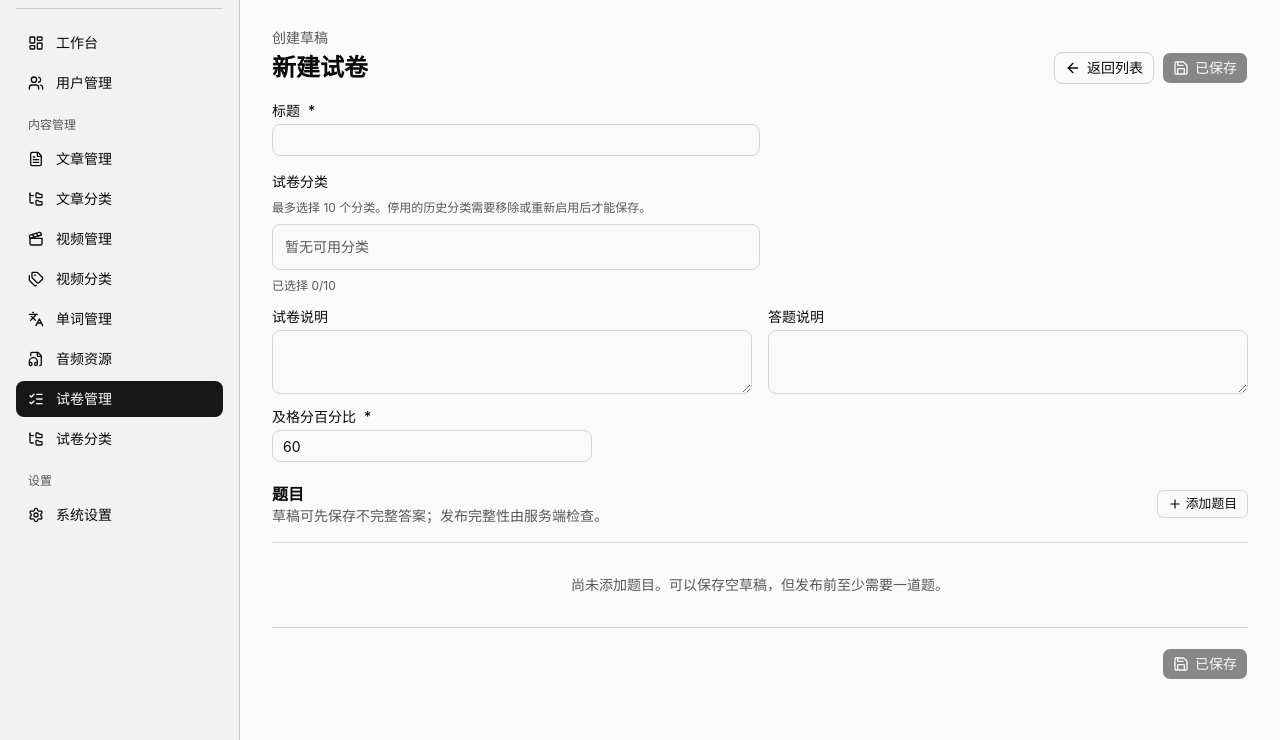
Test: PaperEditor › collapses completed questions and adds the next question in place
Expected: the field labelled "标题 *" is shown, [272, 124, 760, 156]
Click the button "添加题目" at (1202, 504), box [1157, 490, 1248, 518]
(page scrolled)
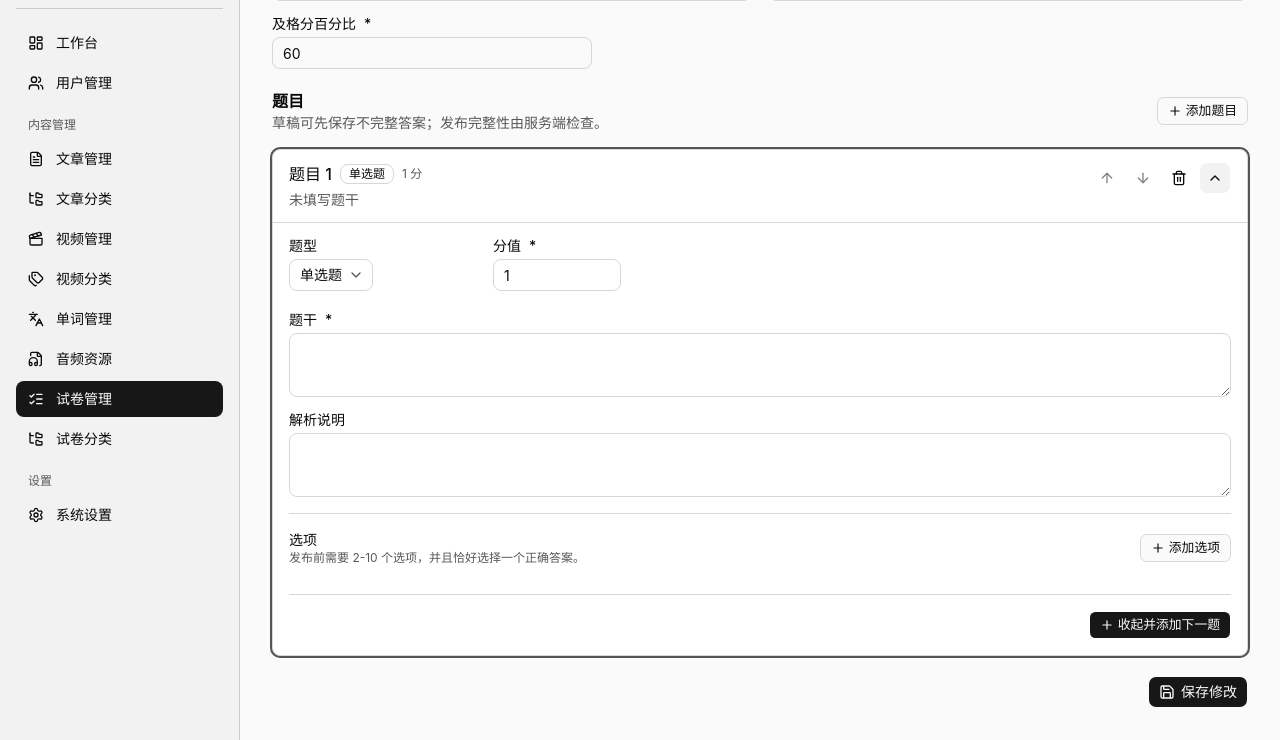
Type "First question" into the text box labelled "题干 *" at (760, 365), box [289, 333, 1231, 397]
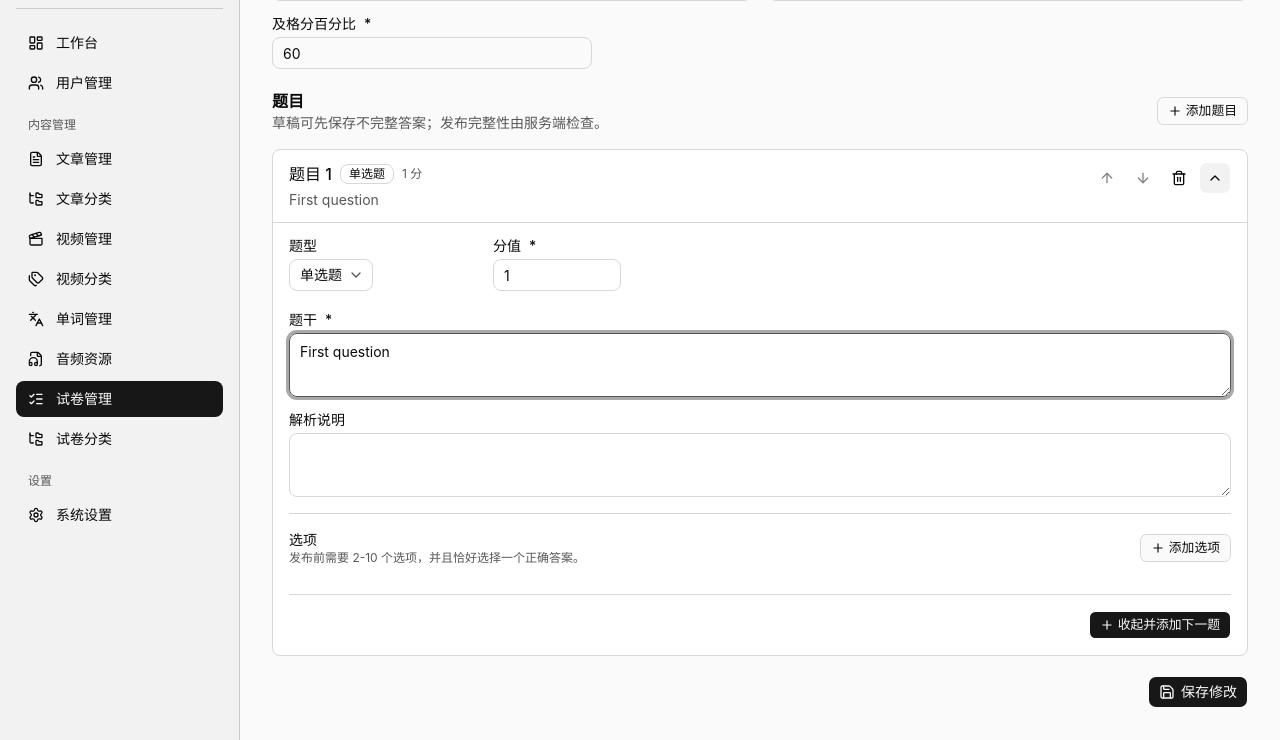
Click the button "收起并添加下一题" at (1160, 625), box [1089, 611, 1231, 639]
(page scrolled)
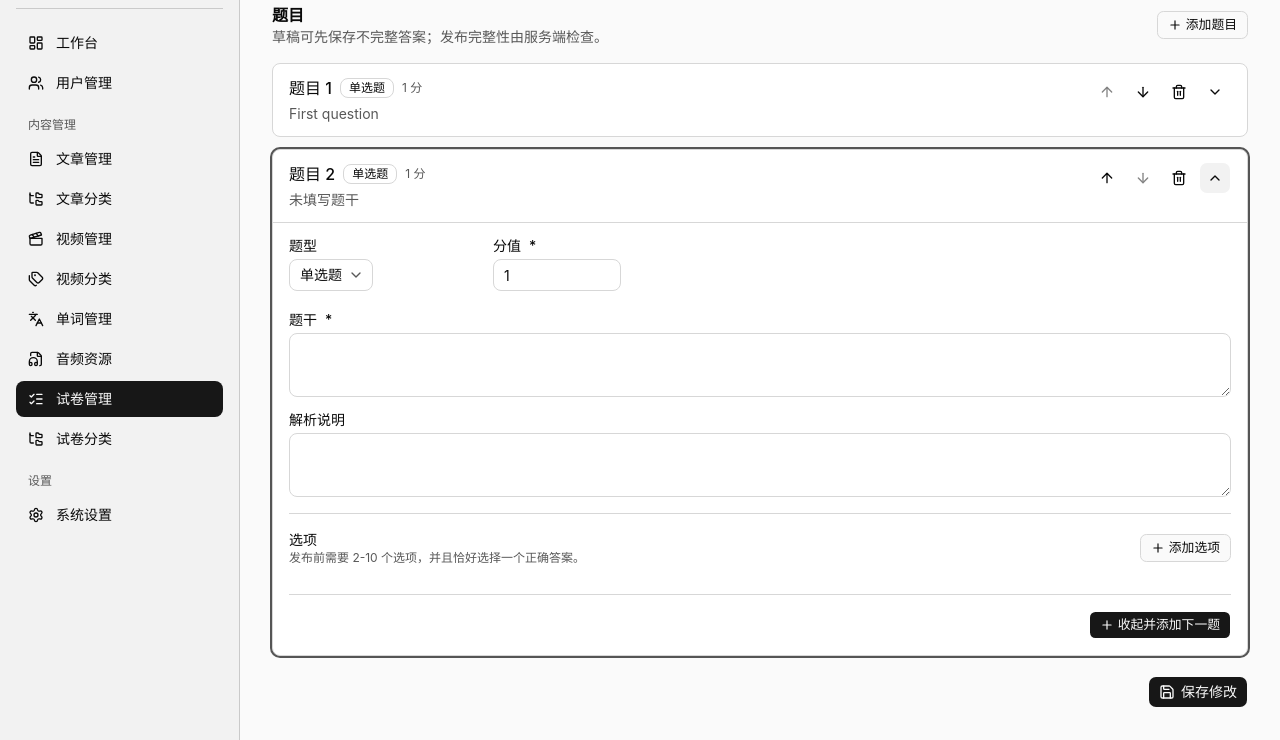
Expected: the text "First question" is shown, [289, 105, 379, 122]
Expected: the number of text boxes labelled "题干 *" is 1, [289, 333, 1231, 397]
Expected: the button named "展开题目 1" is shown
Click the button named "展开题目 1" at (1215, 92), box [1199, 76, 1231, 108]
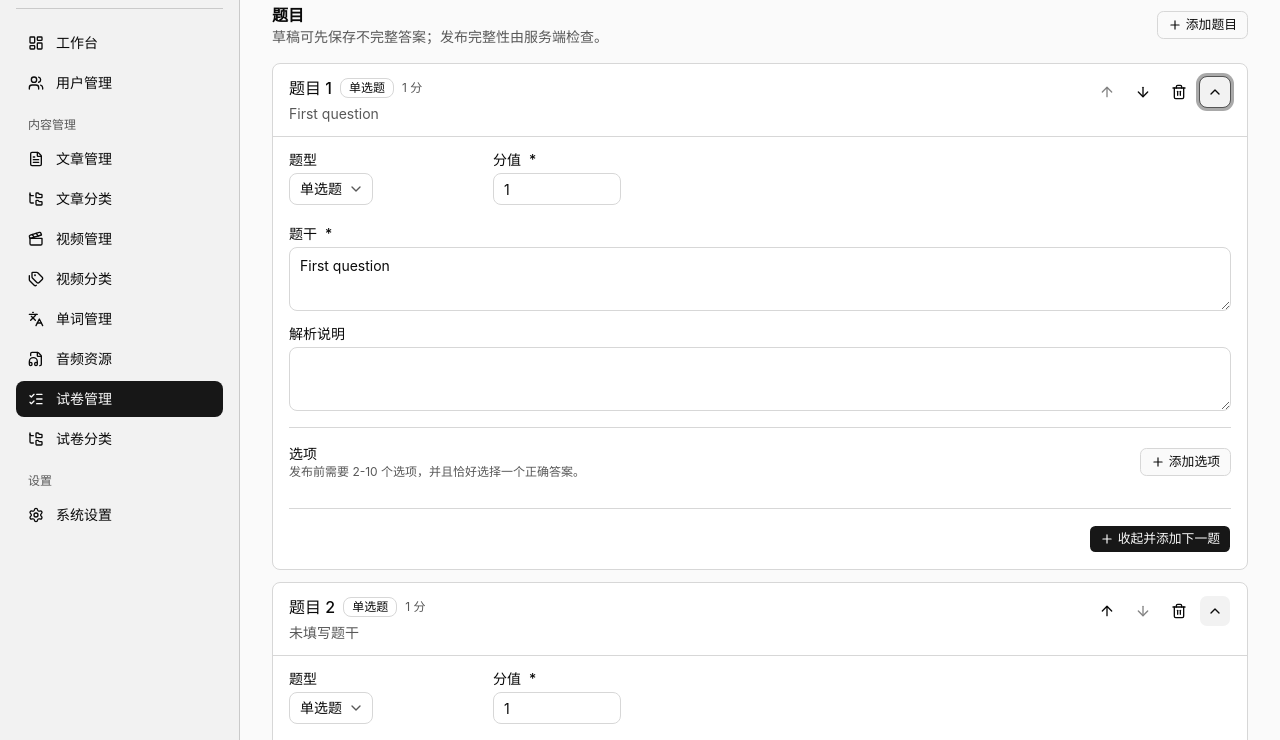
Expected: the number of text boxes labelled "题干 *" is 2
